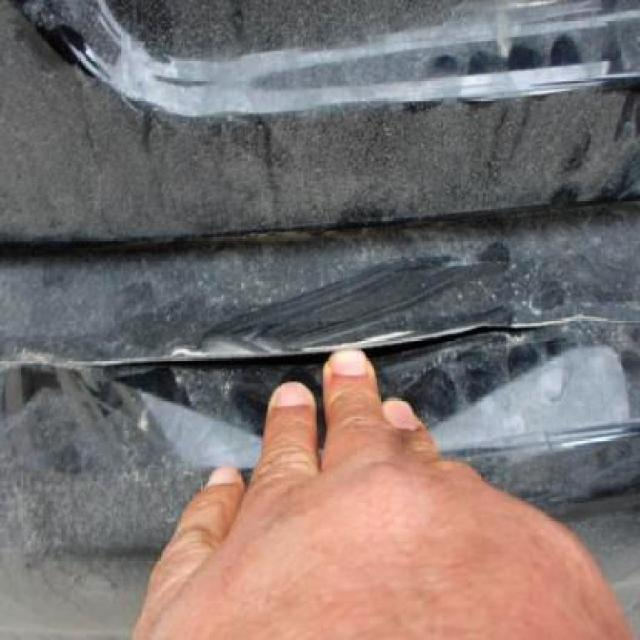car damage: (0, 349, 161, 480), (446, 332, 631, 446), (126, 345, 279, 480)
